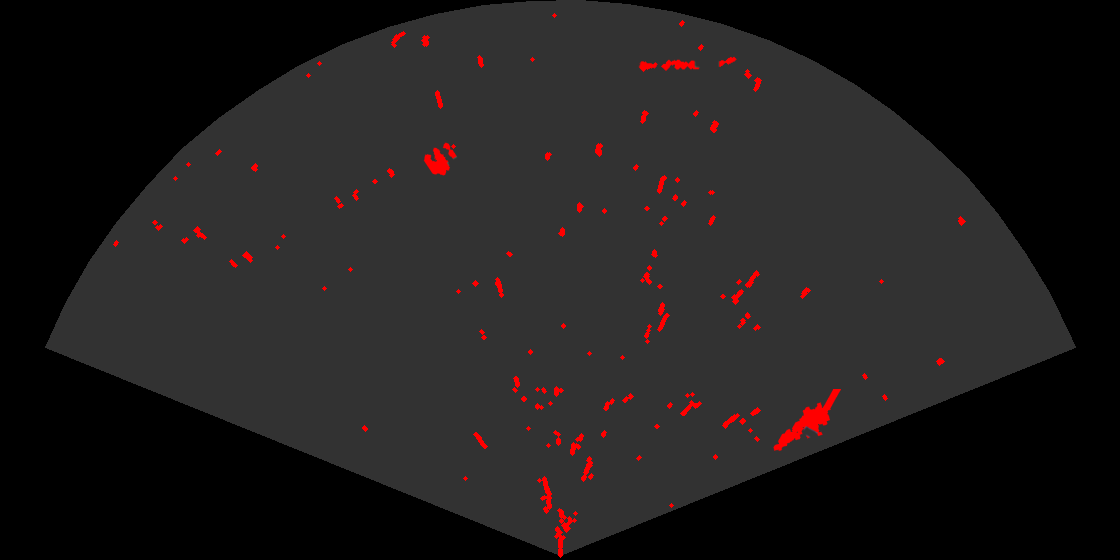ball: (422, 141, 458, 177)
chain: (638, 55, 738, 74)
frogman: (772, 389, 841, 453)
